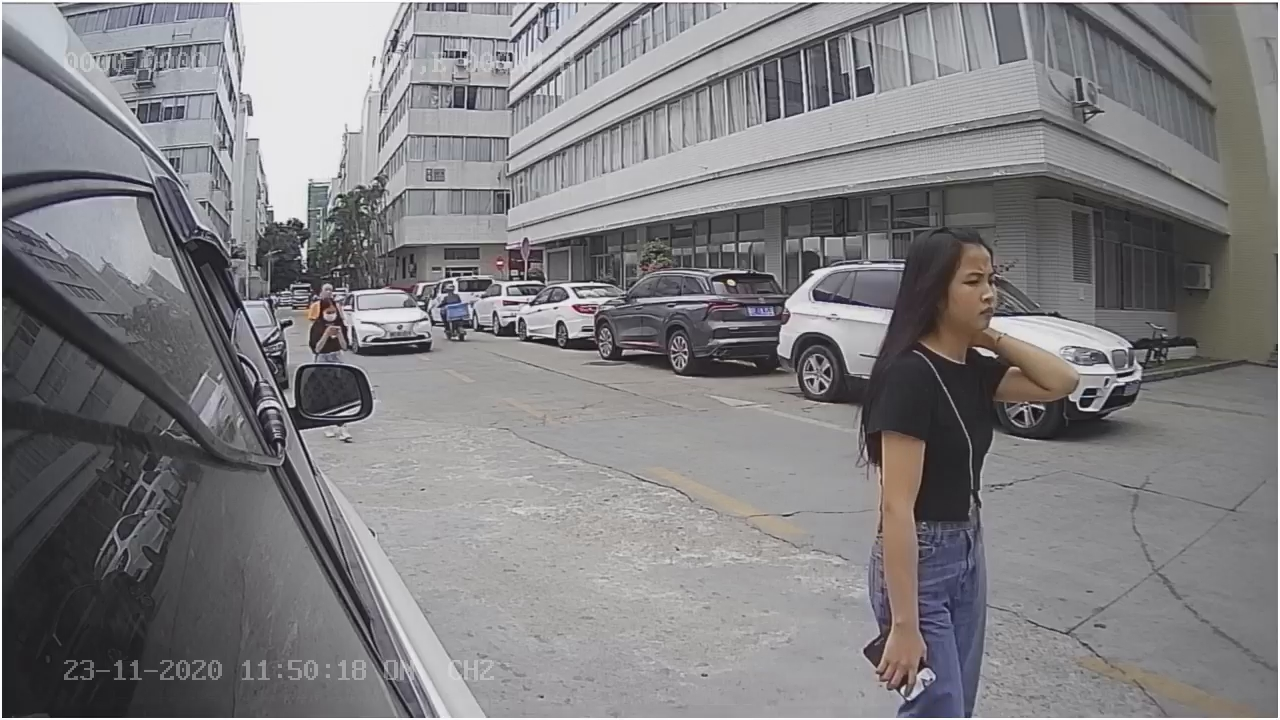person: (842, 225, 1084, 685)
